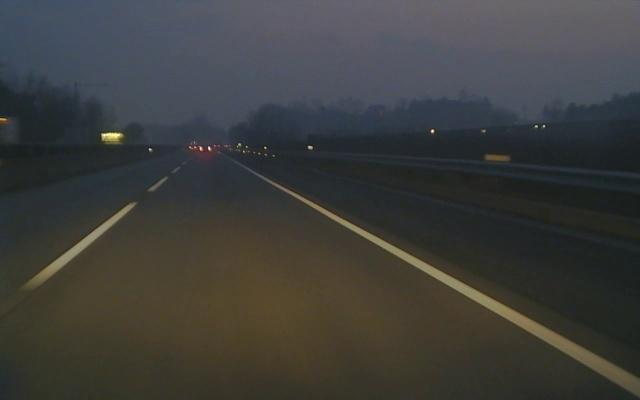lane: (240, 164, 640, 397), (17, 167, 180, 291)
